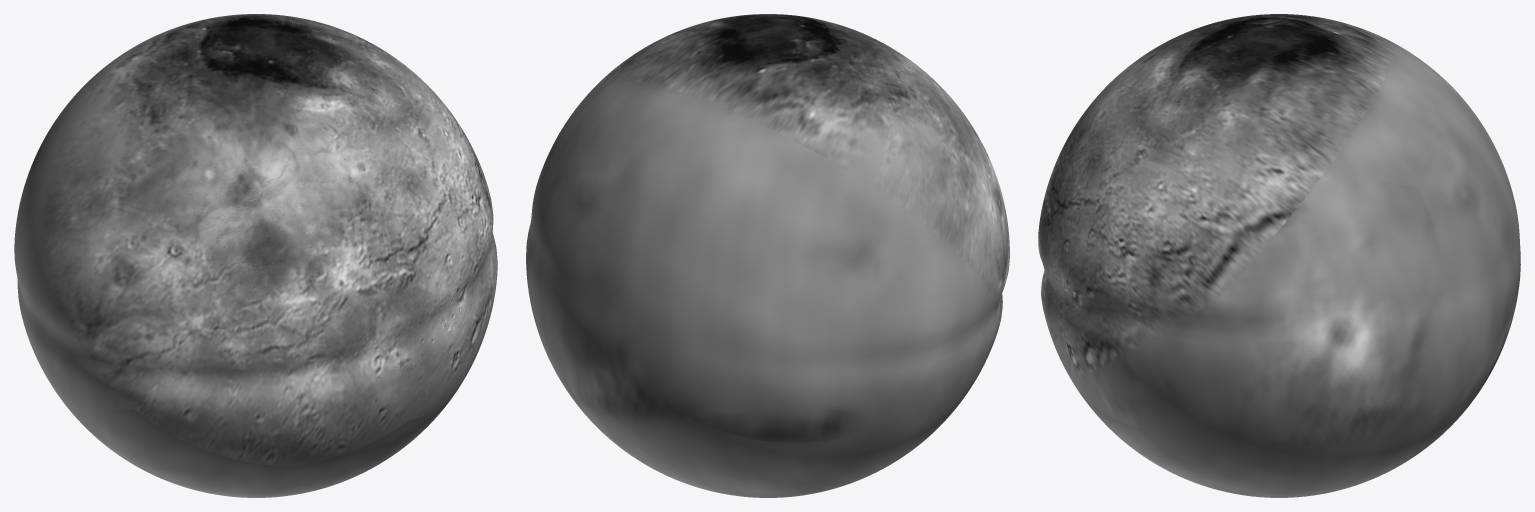
The model's file is charon.glb.
3 renders of one model, left to right at view 1: azimuth 30°, elevation 25°; view 2: azimuth 150°, elevation 25°; view 3: azimuth 270°, elevation 25°, orthographic.
Visible parts, largest first — view 1: charon_globe; view 2: charon_globe; view 3: charon_globe.
Boxes of the visible parts, box(x1,y1,x2,y2) form: charon_globe: box(14, 14, 497, 497); charon_globe: box(526, 14, 1009, 497); charon_globe: box(1038, 14, 1520, 497).
Bounding box in the file's own units: 2 × 2 × 1.99.
Materials: 1 (1 with a texture image).
